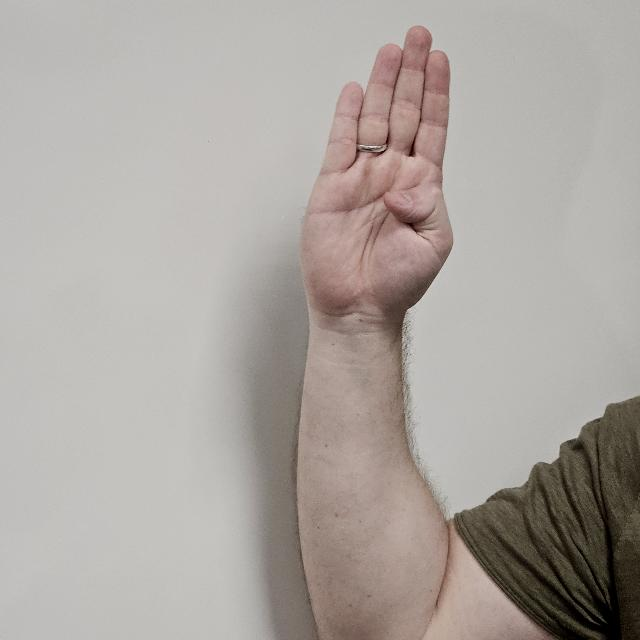Baixo: (304, 24, 454, 340)
